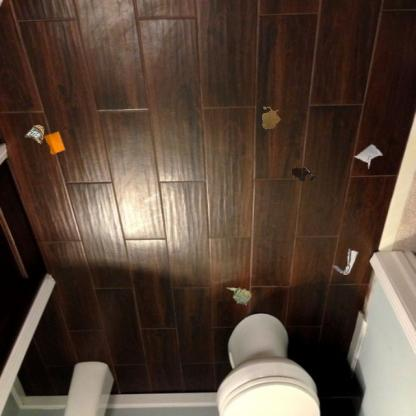dirty: (354, 142, 384, 170), (332, 248, 358, 275), (42, 129, 67, 157), (226, 286, 253, 308), (23, 124, 46, 145)
liquid: (261, 105, 282, 131), (290, 165, 315, 183)
